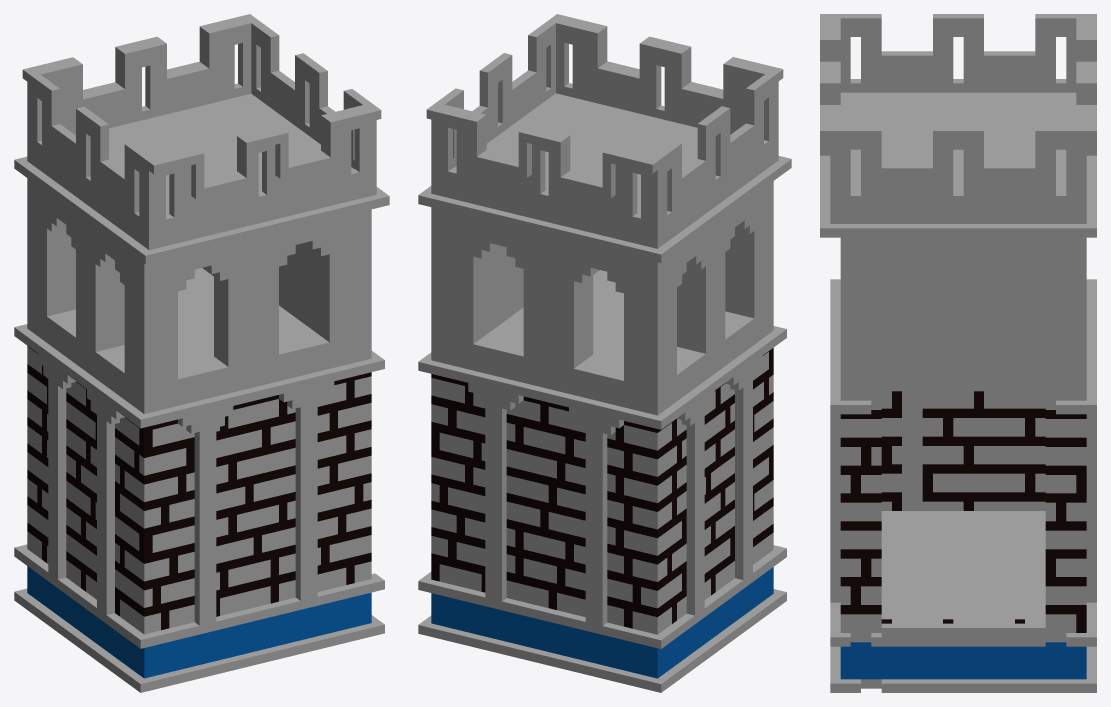
The model's file is Wall1.obj.
3 views of the same model, side by side, from view 1: azimuth 30°, elevation 25°; view 2: azimuth 150°, elevation 25°; view 3: azimuth 270°, elevation 25° (orthographic). The views are drawn at different scales.
Bounding box in the file's own units: 29 × 60 × 27.
1 material, 1 textured.
